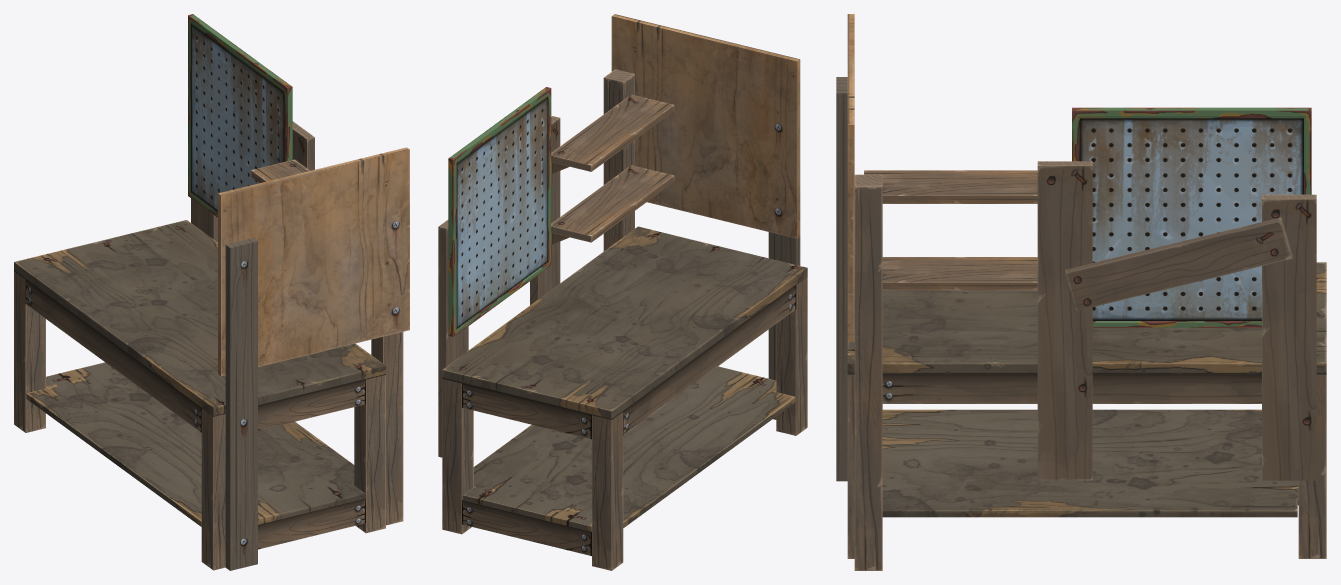
Rendered from workbench02.fbx.
The picture shows the model from 3 angles, left to right: view 1: azimuth 30°, elevation 25°; view 2: azimuth 150°, elevation 25°; view 3: azimuth 270°, elevation 25°; orthographic projection. The views are drawn at different scales.
Visible parts, largest first — view 1: workbench02; view 2: workbench02; view 3: workbench02.
Part boxes in pixels (bbox=[...]): workbench02: bbox=[14, 14, 409, 570]; workbench02: bbox=[438, 14, 807, 570]; workbench02: bbox=[836, 14, 1326, 570].
Bounding box in the file's own units: 114 × 206 × 205.
